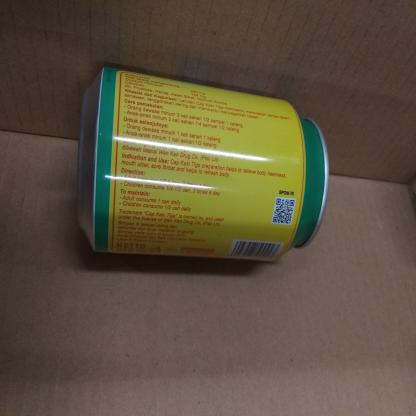can: (69, 59, 333, 269)
